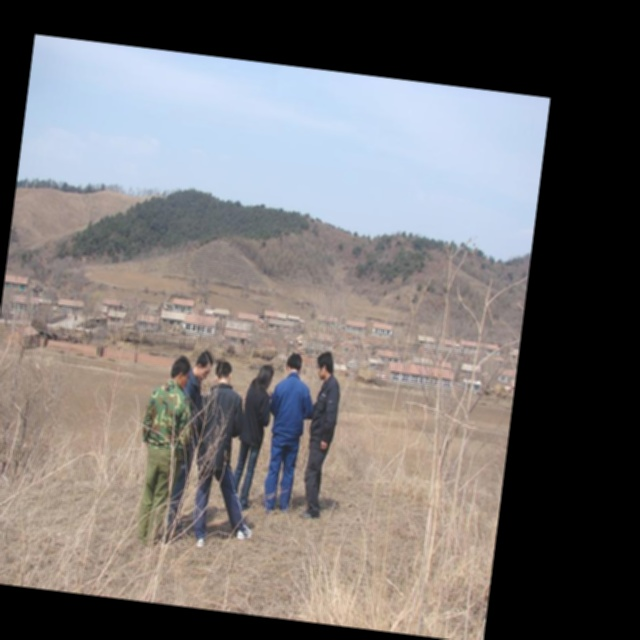Sin_Casco_Mascarrilla: (169, 353, 193, 388), (315, 351, 337, 381), (285, 353, 305, 379), (214, 361, 234, 387)
